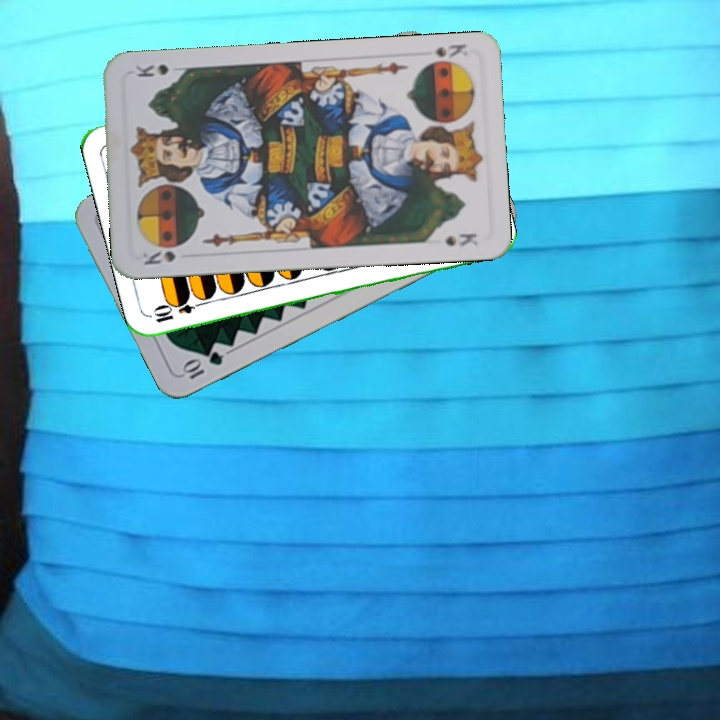E10: (150, 295, 208, 326)
G10: (178, 347, 226, 382)
SK: (431, 39, 470, 61), (138, 247, 178, 268)
